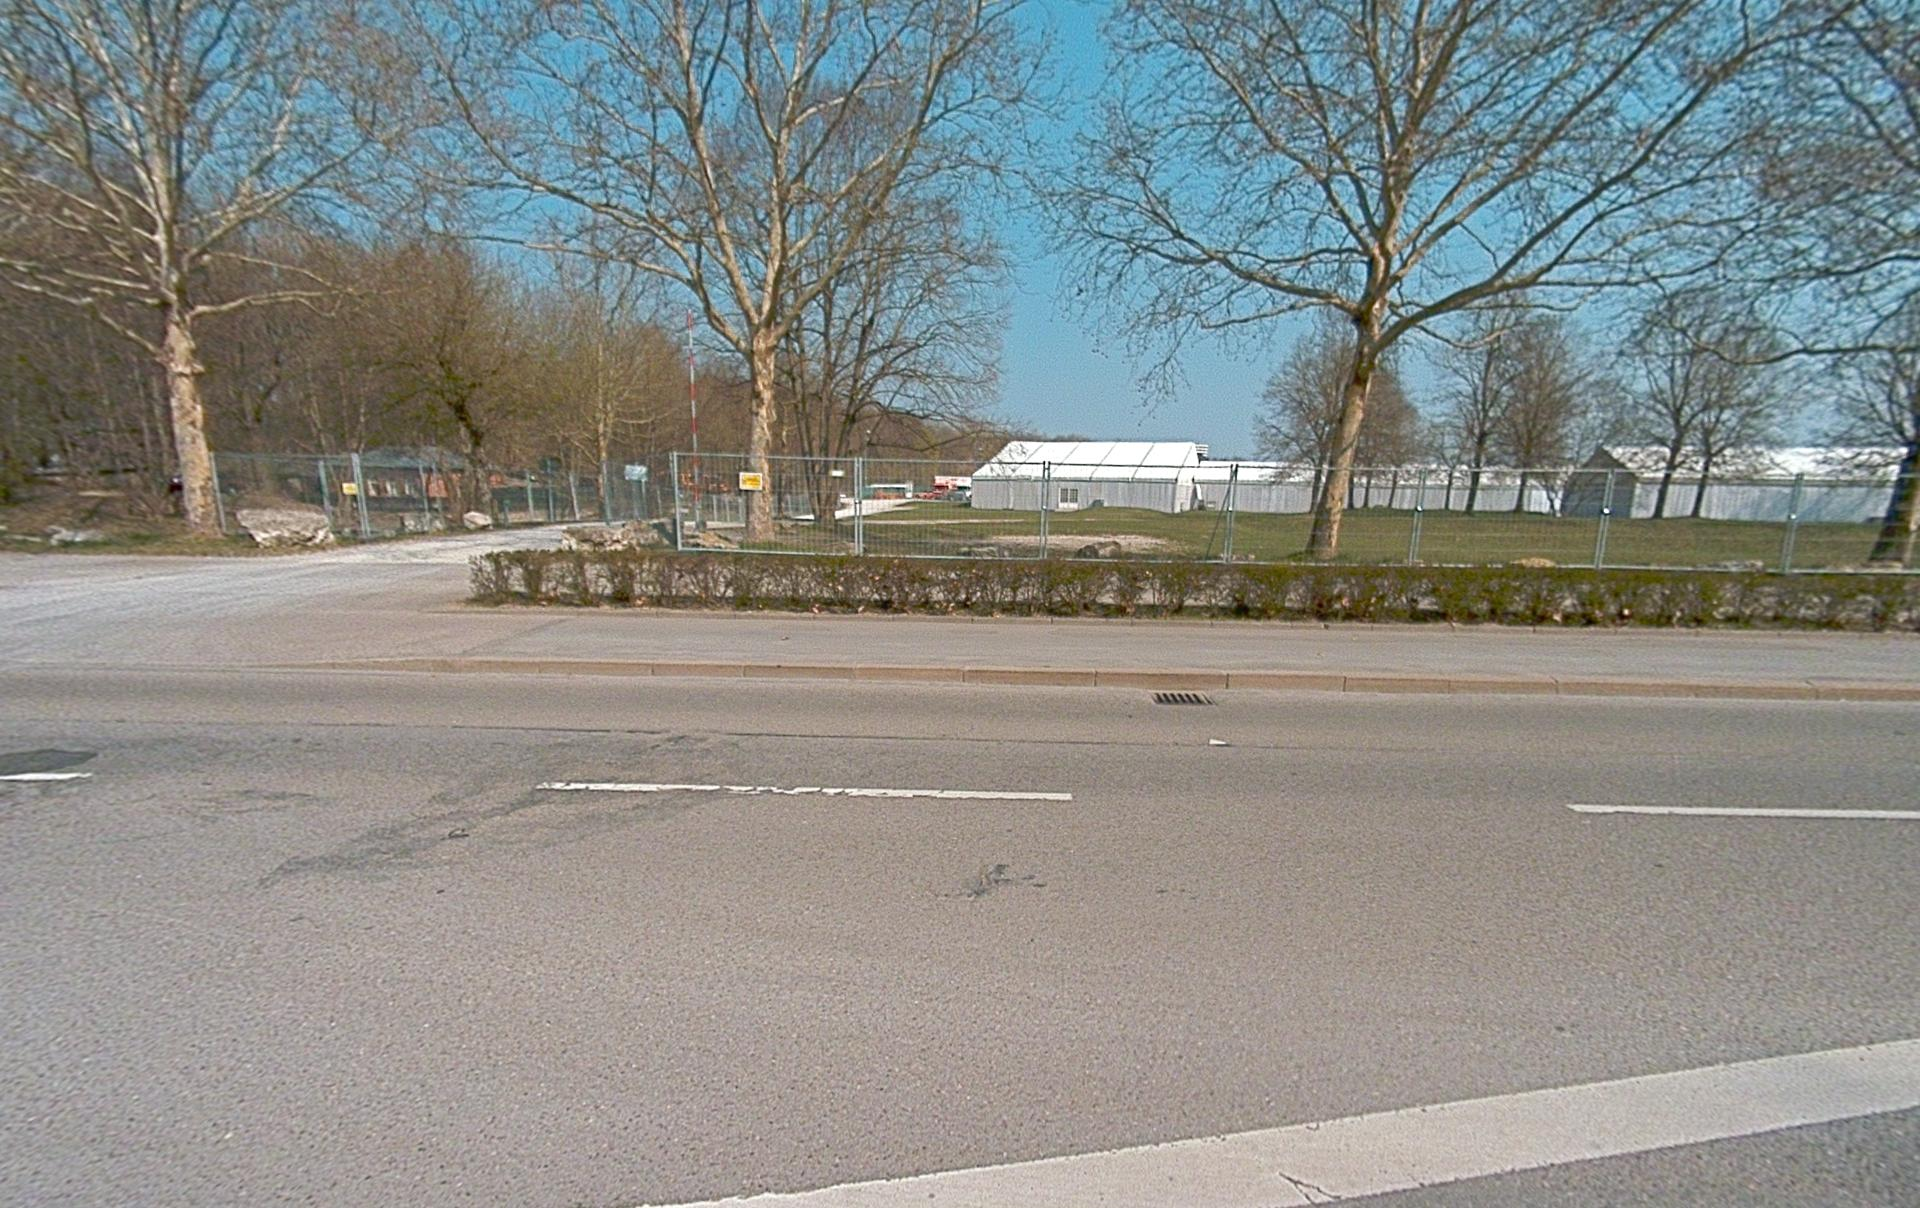traffic sign: (737, 470, 764, 490)
